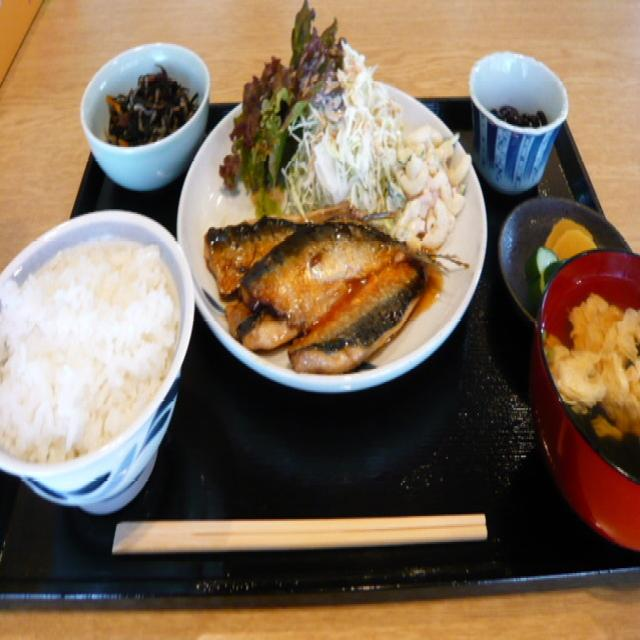熟制海鲜: (188, 198, 441, 372)
